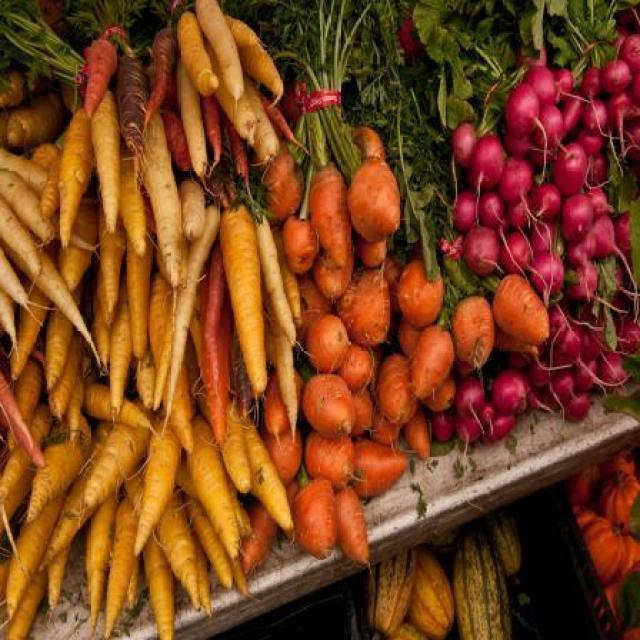Carrot: (202, 118, 491, 568), (490, 274, 550, 352), (82, 30, 119, 120)
